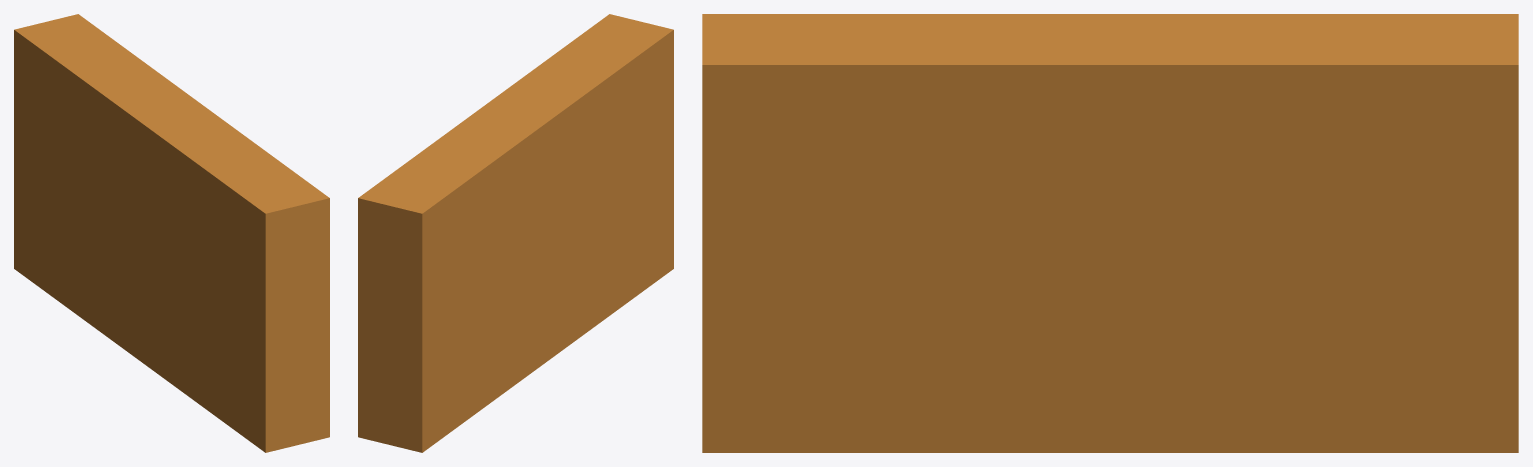
3 views of the same model, side by side, from view 1: azimuth 30°, elevation 25°; view 2: azimuth 150°, elevation 25°; view 3: azimuth 270°, elevation 25° (orthographic). The views are drawn at different scales.
Visible parts, largest first — view 1: GF-A-OPEN-03-00-HEAD; view 2: GF-A-OPEN-03-00-HEAD; view 3: GF-A-OPEN-03-00-HEAD.
Boxes of the visible parts, x1=… form: GF-A-OPEN-03-00-HEAD: x1=14, y1=14, x2=329, y2=452; GF-A-OPEN-03-00-HEAD: x1=358, y1=14, x2=673, y2=452; GF-A-OPEN-03-00-HEAD: x1=702, y1=14, x2=1518, y2=452.
Size of the model in its own units: 0.09 by 0.32 by 0.61.
